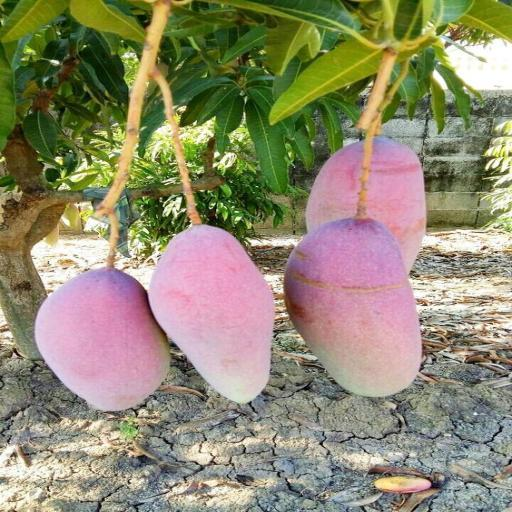mango: (285, 219, 421, 396), (149, 225, 274, 403), (36, 268, 169, 410)
